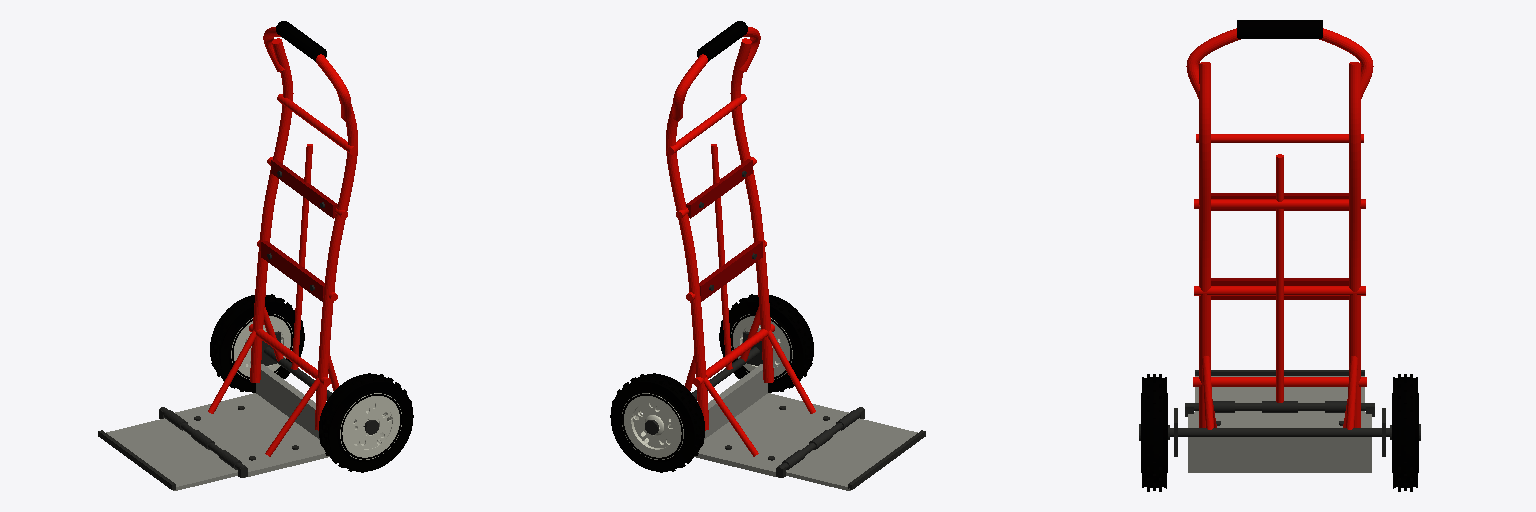
robot.urdf — rugged_hand_truck_dolly:
<robot name="rugged_hand_truck_dolly">
  <material name="red_powder_coat">
    <color rgba="0.86 0.07 0.03 1" />
    </material>
  <material name="welded_red_shadow">
    <color rgba="0.55 0.03 0.02 1" />
    </material>
  <material name="brushed_steel">
    <color rgba="0.55 0.55 0.52 1" />
    </material>
  <material name="dark_axle_steel">
    <color rgba="0.18 0.18 0.17 1" />
    </material>
  <material name="black_rubber">
    <color rgba="0.015 0.014 0.012 1" />
    </material>
  <material name="silver_rim">
    <color rgba="0.78 0.78 0.72 1" />
    </material>
  <link name="frame">
    <visual name="side_rail_0">
      <geometry>
        <mesh filename="assets/meshes/side_rail_0_mesh.obj" />
        </geometry>
      <material name="red_powder_coat">
        <color rgba="0.86 0.07 0.03 1" />
        </material>
      </visual>
    <visual name="side_rail_1">
      <geometry>
        <mesh filename="assets/meshes/side_rail_1_mesh.obj" />
        </geometry>
      <material name="red_powder_coat">
        <color rgba="0.86 0.07 0.03 1" />
        </material>
      </visual>
    <visual name="handle_loop">
      <geometry>
        <mesh filename="assets/meshes/handle_loop_mesh.obj" />
        </geometry>
      <material name="red_powder_coat">
        <color rgba="0.86 0.07 0.03 1" />
        </material>
      </visual>
    <visual name="rubber_grip">
      <origin xyz="0.055 0 1.455" rpy="1.5708 0 0" />
      <geometry>
        <cylinder radius="0.027" length="0.255" />
        </geometry>
      <material name="black_rubber">
        <color rgba="0.015 0.014 0.012 1" />
        </material>
      </visual>
    <visual name="lower_crossbar">
      <origin xyz="0.01 0 0.29" rpy="0 1.5708 1.5708" />
      <geometry>
        <cylinder radius="0.015" length="0.51" />
        </geometry>
      <material name="red_powder_coat">
        <color rgba="0.86 0.07 0.03 1" />
        </material>
      </visual>
    <visual name="middle_crossbar">
      <origin xyz="0.04 0 0.6" rpy="0 1.5708 1.5708" />
      <geometry>
        <cylinder radius="0.014" length="0.504" />
        </geometry>
      <material name="red_powder_coat">
        <color rgba="0.86 0.07 0.03 1" />
        </material>
      </visual>
    <visual name="load_crossbar">
      <origin xyz="0.08 0 0.9" rpy="0 1.5708 1.5708" />
      <geometry>
        <cylinder radius="0.014" length="0.504" />
        </geometry>
      <material name="red_powder_coat">
        <color rgba="0.86 0.07 0.03 1" />
        </material>
      </visual>
    <visual name="shoulder_crossbar">
      <origin xyz="0.116 0 1.13" rpy="0 1.5708 1.5708" />
      <geometry>
        <cylinder radius="0.014" length="0.496" />
        </geometry>
      <material name="red_powder_coat">
        <color rgba="0.86 0.07 0.03 1" />
        </material>
      </visual>
    <visual name="center_spine">
      <origin xyz="0.058 0 0.6475" rpy="0 0.0725995 0" />
      <geometry>
        <cylinder radius="0.011" length="0.827179" />
        </geometry>
      <material name="red_powder_coat">
        <color rgba="0.86 0.07 0.03 1" />
        </material>
      </visual>
    <visual name="toe_brace_0">
      <origin xyz="-0.089 -0.2075 0.1725" rpy="0 0.654972 -0.123136" />
      <geometry>
        <cylinder radius="0.011" length="0.334147" />
        </geometry>
      <material name="red_powder_coat">
        <color rgba="0.86 0.07 0.03 1" />
        </material>
      </visual>
    <visual name="toe_brace_1">
      <origin xyz="-0.089 0.2075 0.1725" rpy="0 0.654972 0.123136" />
      <geometry>
        <cylinder radius="0.011" length="0.334147" />
        </geometry>
      <material name="red_powder_coat">
        <color rgba="0.86 0.07 0.03 1" />
        </material>
      </visual>
    <visual name="axle_strut_0">
      <origin xyz="0.056 -0.2125 0.2825" rpy="0 0.313509 -2.9516" />
      <geometry>
        <cylinder radius="0.012" length="0.257554" />
        </geometry>
      <material name="red_powder_coat">
        <color rgba="0.86 0.07 0.03 1" />
        </material>
      </visual>
    <visual name="axle_strut_1">
      <origin xyz="0.056 0.2125 0.2825" rpy="0 0.313509 2.9516" />
      <geometry>
        <cylinder radius="0.012" length="0.257554" />
        </geometry>
      <material name="red_powder_coat">
        <color rgba="0.86 0.07 0.03 1" />
        </material>
      </visual>
    <visual name="toe_plate">
      <origin xyz="-0.14 0 0.025" rpy="0 0 0" />
      <geometry>
        <box size="0.38 0.54 0.018" />
        </geometry>
      <material name="brushed_steel">
        <color rgba="0.55 0.55 0.52 1" />
        </material>
      </visual>
    <visual name="heel_plate">
      <origin xyz="0.045 0 0.076" rpy="0 0 0" />
      <geometry>
        <box size="0.028 0.54 0.12" />
        </geometry>
      <material name="brushed_steel">
        <color rgba="0.55 0.55 0.52 1" />
        </material>
      </visual>
    <visual name="load_back_strap">
      <origin xyz="0.028 0 0.6" rpy="0 0 0" />
      <geometry>
        <box size="0.02 0.42 0.06" />
        </geometry>
      <material name="welded_red_shadow">
        <color rgba="0.55 0.03 0.02 1" />
        </material>
      </visual>
    <visual name="upper_back_strap">
      <origin xyz="0.067 0 0.9" rpy="0 0 0" />
      <geometry>
        <box size="0.018 0.42 0.05" />
        </geometry>
      <material name="welded_red_shadow">
        <color rgba="0.55 0.03 0.02 1" />
        </material>
      </visual>
    <visual name="axle">
      <origin xyz="0.095 0 0.165" rpy="0 1.5708 1.5708" />
      <geometry>
        <cylinder radius="0.014" length="0.78" />
        </geometry>
      <material name="dark_axle_steel">
        <color rgba="0.18 0.18 0.17 1" />
        </material>
      </visual>
    <visual name="dropout_plate_0">
      <origin xyz="0.095 -0.306 0.165" rpy="0 0 0" />
      <geometry>
        <box size="0.105 0.014 0.112" />
        </geometry>
      <material name="dark_axle_steel">
        <color rgba="0.18 0.18 0.17 1" />
        </material>
      </visual>
    <visual name="inner_washer_0">
      <origin xyz="0.095 -0.306 0.165" rpy="1.5708 0 0" />
      <geometry>
        <cylinder radius="0.044" length="0.01" />
        </geometry>
      <material name="dark_axle_steel">
        <color rgba="0.18 0.18 0.17 1" />
        </material>
      </visual>
    <visual name="dropout_plate_1">
      <origin xyz="0.095 0.306 0.165" rpy="0 0 0" />
      <geometry>
        <box size="0.105 0.014 0.112" />
        </geometry>
      <material name="dark_axle_steel">
        <color rgba="0.18 0.18 0.17 1" />
        </material>
      </visual>
    <visual name="inner_washer_1">
      <origin xyz="0.095 0.306 0.165" rpy="1.5708 0 0" />
      <geometry>
        <cylinder radius="0.044" length="0.01" />
        </geometry>
      <material name="dark_axle_steel">
        <color rgba="0.18 0.18 0.17 1" />
        </material>
      </visual>
    <visual name="toe_bolt_0_0">
      <origin xyz="-0.245 -0.185 0.037" rpy="0 0 0" />
      <geometry>
        <cylinder radius="0.012" length="0.006" />
        </geometry>
      <material name="dark_axle_steel">
        <color rgba="0.18 0.18 0.17 1" />
        </material>
      </visual>
    <visual name="toe_bolt_0_1">
      <origin xyz="-0.245 0.185 0.037" rpy="0 0 0" />
      <geometry>
        <cylinder radius="0.012" length="0.006" />
        </geometry>
      <material name="dark_axle_steel">
        <color rgba="0.18 0.18 0.17 1" />
        </material>
      </visual>
    <visual name="toe_bolt_1_0">
      <origin xyz="-0.075 -0.185 0.037" rpy="0 0 0" />
      <geometry>
        <cylinder radius="0.012" length="0.006" />
        </geometry>
      <material name="dark_axle_steel">
        <color rgba="0.18 0.18 0.17 1" />
        </material>
      </visual>
    <visual name="toe_bolt_1_1">
      <origin xyz="-0.075 0.185 0.037" rpy="0 0 0" />
      <geometry>
        <cylinder radius="0.012" length="0.006" />
        </geometry>
      <material name="dark_axle_steel">
        <color rgba="0.18 0.18 0.17 1" />
        </material>
      </visual>
    <visual name="strap_bolt_0_0">
      <origin xyz="0.014 -0.145 0.6" rpy="0 1.5708 0" />
      <geometry>
        <cylinder radius="0.01" length="0.008" />
        </geometry>
      <material name="dark_axle_steel">
        <color rgba="0.18 0.18 0.17 1" />
        </material>
      </visual>
    <visual name="strap_bolt_0_1">
      <origin xyz="0.014 0.145 0.6" rpy="0 1.5708 0" />
      <geometry>
        <cylinder radius="0.01" length="0.008" />
        </geometry>
      <material name="dark_axle_steel">
        <color rgba="0.18 0.18 0.17 1" />
        </material>
      </visual>
    <visual name="strap_bolt_1_0">
      <origin xyz="0.054 -0.145 0.9" rpy="0 1.5708 0" />
      <geometry>
        <cylinder radius="0.01" length="0.008" />
        </geometry>
      <material name="dark_axle_steel">
        <color rgba="0.18 0.18 0.17 1" />
        </material>
      </visual>
    <visual name="strap_bolt_1_1">
      <origin xyz="0.054 0.145 0.9" rpy="0 1.5708 0" />
      <geometry>
        <cylinder radius="0.01" length="0.008" />
        </geometry>
      <material name="dark_axle_steel">
        <color rgba="0.18 0.18 0.17 1" />
        </material>
      </visual>
    <visual name="toe_hinge_pin">
      <origin xyz="-0.33 0 0.05" rpy="1.5708 0 0" />
      <geometry>
        <cylinder radius="0.012" length="0.56" />
        </geometry>
      <material name="dark_axle_steel">
        <color rgba="0.18 0.18 0.17 1" />
        </material>
      </visual>
    <visual name="hinge_lug_0">
      <origin xyz="-0.33 -0.267 0.039" rpy="0 0 0" />
      <geometry>
        <box size="0.026 0.025 0.034" />
        </geometry>
      <material name="dark_axle_steel">
        <color rgba="0.18 0.18 0.17 1" />
        </material>
      </visual>
    <visual name="hinge_lug_1">
      <origin xyz="-0.33 0.267 0.039" rpy="0 0 0" />
      <geometry>
        <box size="0.026 0.025 0.034" />
        </geometry>
      <material name="dark_axle_steel">
        <color rgba="0.18 0.18 0.17 1" />
        </material>
      </visual>
    <collision name="side_rail_0">
      <geometry>
        <mesh filename="assets/meshes/side_rail_0_mesh.obj" />
        </geometry>
      </collision>
    <collision name="side_rail_1">
      <geometry>
        <mesh filename="assets/meshes/side_rail_1_mesh.obj" />
        </geometry>
      </collision>
    <collision name="handle_loop">
      <geometry>
        <mesh filename="assets/meshes/handle_loop_mesh.obj" />
        </geometry>
      </collision>
    <collision name="rubber_grip">
      <origin xyz="0.055 0 1.455" rpy="1.5708 0 0" />
      <geometry>
        <cylinder radius="0.027" length="0.255" />
        </geometry>
      </collision>
    <collision name="lower_crossbar">
      <origin xyz="0.01 0 0.29" rpy="0 1.5708 1.5708" />
      <geometry>
        <cylinder radius="0.015" length="0.51" />
        </geometry>
      </collision>
    <collision name="middle_crossbar">
      <origin xyz="0.04 0 0.6" rpy="0 1.5708 1.5708" />
      <geometry>
        <cylinder radius="0.014" length="0.504" />
        </geometry>
      </collision>
    <collision name="load_crossbar">
      <origin xyz="0.08 0 0.9" rpy="0 1.5708 1.5708" />
      <geometry>
        <cylinder radius="0.014" length="0.504" />
        </geometry>
      </collision>
    <collision name="shoulder_crossbar">
      <origin xyz="0.116 0 1.13" rpy="0 1.5708 1.5708" />
      <geometry>
        <cylinder radius="0.014" length="0.496" />
        </geometry>
      </collision>
    <collision name="center_spine">
      <origin xyz="0.058 0 0.6475" rpy="0 0.0725995 0" />
      <geometry>
        <cylinder radius="0.011" length="0.827179" />
        </geometry>
      </collision>
    <collision name="toe_brace_0">
      <origin xyz="-0.089 -0.2075 0.1725" rpy="0 0.654972 -0.123136" />
      <geometry>
        <cylinder radius="0.011" length="0.334147" />
        </geometry>
      </collision>
    <collision name="toe_brace_1">
      <origin xyz="-0.089 0.2075 0.1725" rpy="0 0.654972 0.123136" />
      <geometry>
        <cylinder radius="0.011" length="0.334147" />
        </geometry>
      </collision>
    <collision name="axle_strut_0">
      <origin xyz="0.056 -0.2125 0.2825" rpy="0 0.313509 -2.9516" />
      <geometry>
        <cylinder radius="0.012" length="0.257554" />
        </geometry>
      </collision>
    <collision name="axle_strut_1">
      <origin xyz="0.056 0.2125 0.2825" rpy="0 0.313509 2.9516" />
      <geometry>
        <cylinder radius="0.012" length="0.257554" />
        </geometry>
      </collision>
    <collision name="toe_plate">
      <origin xyz="-0.14 0 0.025" rpy="0 0 0" />
      <geometry>
        <box size="0.38 0.54 0.018" />
        </geometry>
      </collision>
    <collision name="heel_plate">
      <origin xyz="0.045 0 0.076" rpy="0 0 0" />
      <geometry>
        <box size="0.028 0.54 0.12" />
        </geometry>
      </collision>
    <collision name="load_back_strap">
      <origin xyz="0.028 0 0.6" rpy="0 0 0" />
      <geometry>
        <box size="0.02 0.42 0.06" />
        </geometry>
      </collision>
    <collision name="upper_back_strap">
      <origin xyz="0.067 0 0.9" rpy="0 0 0" />
      <geometry>
        <box size="0.018 0.42 0.05" />
        </geometry>
      </collision>
    <collision name="axle">
      <origin xyz="0.095 0 0.165" rpy="0 1.5708 1.5708" />
      <geometry>
        <cylinder radius="0.014" length="0.78" />
        </geometry>
      </collision>
    <collision name="dropout_plate_0">
      <origin xyz="0.095 -0.306 0.165" rpy="0 0 0" />
      <geometry>
        <box size="0.105 0.014 0.112" />
        </geometry>
      </collision>
    <collision name="inner_washer_0">
      <origin xyz="0.095 -0.306 0.165" rpy="1.5708 0 0" />
      <geometry>
        <cylinder radius="0.044" length="0.01" />
        </geometry>
      </collision>
    <collision name="dropout_plate_1">
      <origin xyz="0.095 0.306 0.165" rpy="0 0 0" />
      <geometry>
        <box size="0.105 0.014 0.112" />
        </geometry>
      </collision>
    <collision name="inner_washer_1">
      <origin xyz="0.095 0.306 0.165" rpy="1.5708 0 0" />
      <geometry>
        <cylinder radius="0.044" length="0.01" />
        </geometry>
      </collision>
    <collision name="toe_bolt_0_0">
      <origin xyz="-0.245 -0.185 0.037" rpy="0 0 0" />
      <geometry>
        <cylinder radius="0.012" length="0.006" />
        </geometry>
      </collision>
    <collision name="toe_bolt_0_1">
      <origin xyz="-0.245 0.185 0.037" rpy="0 0 0" />
      <geometry>
        <cylinder radius="0.012" length="0.006" />
        </geometry>
      </collision>
    <collision name="toe_bolt_1_0">
      <origin xyz="-0.075 -0.185 0.037" rpy="0 0 0" />
      <geometry>
        <cylinder radius="0.012" length="0.006" />
        </geometry>
      </collision>
    <collision name="toe_bolt_1_1">
      <origin xyz="-0.075 0.185 0.037" rpy="0 0 0" />
      <geometry>
        <cylinder radius="0.012" length="0.006" />
        </geometry>
      </collision>
    <collision name="strap_bolt_0_0">
      <origin xyz="0.014 -0.145 0.6" rpy="0 1.5708 0" />
      <geometry>
        <cylinder radius="0.01" length="0.008" />
        </geometry>
      </collision>
    <collision name="strap_bolt_0_1">
      <origin xyz="0.014 0.145 0.6" rpy="0 1.5708 0" />
      <geometry>
        <cylinder radius="0.01" length="0.008" />
        </geometry>
      </collision>
    <collision name="strap_bolt_1_0">
      <origin xyz="0.054 -0.145 0.9" rpy="0 1.5708 0" />
      <geometry>
        <cylinder radius="0.01" length="0.008" />
        </geometry>
      </collision>
    <collision name="strap_bolt_1_1">
      <origin xyz="0.054 0.145 0.9" rpy="0 1.5708 0" />
      <geometry>
        <cylinder radius="0.01" length="0.008" />
        </geometry>
      </collision>
    <collision name="toe_hinge_pin">
      <origin xyz="-0.33 0 0.05" rpy="1.5708 0 0" />
      <geometry>
        <cylinder radius="0.012" length="0.56" />
        </geometry>
      </collision>
    <collision name="hinge_lug_0">
      <origin xyz="-0.33 -0.267 0.039" rpy="0 0 0" />
      <geometry>
        <box size="0.026 0.025 0.034" />
        </geometry>
      </collision>
    <collision name="hinge_lug_1">
      <origin xyz="-0.33 0.267 0.039" rpy="0 0 0" />
      <geometry>
        <box size="0.026 0.025 0.034" />
        </geometry>
      </collision>
    </link>
  <link name="toe_extension">
    <visual name="extension_plate">
      <origin xyz="-0.13 0 -0.024" rpy="0 0 0" />
      <geometry>
        <box size="0.26 0.5 0.014" />
        </geometry>
      <material name="brushed_steel">
        <color rgba="0.55 0.55 0.52 1" />
        </material>
      </visual>
    <visual name="front_lip">
      <origin xyz="-0.26 0 -0.015" rpy="0 0 0" />
      <geometry>
        <box size="0.015 0.5 0.02" />
        </geometry>
      <material name="dark_axle_steel">
        <color rgba="0.18 0.18 0.17 1" />
        </material>
      </visual>
    <visual name="hinge_sleeve_0">
      <origin xyz="0 -0.185 0" rpy="1.5708 0 0" />
      <geometry>
        <cylinder radius="0.017" length="0.105" />
        </geometry>
      <material name="dark_axle_steel">
        <color rgba="0.18 0.18 0.17 1" />
        </material>
      </visual>
    <visual name="hinge_sleeve_1">
      <origin xyz="0 0 0" rpy="1.5708 0 0" />
      <geometry>
        <cylinder radius="0.017" length="0.105" />
        </geometry>
      <material name="dark_axle_steel">
        <color rgba="0.18 0.18 0.17 1" />
        </material>
      </visual>
    <visual name="hinge_sleeve_2">
      <origin xyz="0 0.185 0" rpy="1.5708 0 0" />
      <geometry>
        <cylinder radius="0.017" length="0.105" />
        </geometry>
      <material name="dark_axle_steel">
        <color rgba="0.18 0.18 0.17 1" />
        </material>
      </visual>
    <collision name="extension_plate">
      <origin xyz="-0.13 0 -0.024" rpy="0 0 0" />
      <geometry>
        <box size="0.26 0.5 0.014" />
        </geometry>
      </collision>
    <collision name="front_lip">
      <origin xyz="-0.26 0 -0.015" rpy="0 0 0" />
      <geometry>
        <box size="0.015 0.5 0.02" />
        </geometry>
      </collision>
    <collision name="hinge_sleeve_0">
      <origin xyz="0 -0.185 0" rpy="1.5708 0 0" />
      <geometry>
        <cylinder radius="0.017" length="0.105" />
        </geometry>
      </collision>
    <collision name="hinge_sleeve_1">
      <origin xyz="0 0 0" rpy="1.5708 0 0" />
      <geometry>
        <cylinder radius="0.017" length="0.105" />
        </geometry>
      </collision>
    <collision name="hinge_sleeve_2">
      <origin xyz="0 0.185 0" rpy="1.5708 0 0" />
      <geometry>
        <cylinder radius="0.017" length="0.105" />
        </geometry>
      </collision>
    </link>
  <link name="wheel_0">
    <visual name="tire">
      <origin xyz="0 0 0" rpy="0 0 1.5708" />
      <geometry>
        <mesh filename="assets/meshes/dolly_utility_tire.obj" />
        </geometry>
      <material name="black_rubber">
        <color rgba="0.015 0.014 0.012 1" />
        </material>
      </visual>
    <visual name="rim">
      <origin xyz="0 0 0" rpy="0 0 1.5708" />
      <geometry>
        <mesh filename="assets/meshes/dolly_wheel_rim.obj" />
        </geometry>
      <material name="silver_rim">
        <color rgba="0.78 0.78 0.72 1" />
        </material>
      </visual>
    <visual name="outer_hub_cap">
      <origin xyz="0 -0.04 0" rpy="1.5708 0 0" />
      <geometry>
        <cylinder radius="0.026" length="0.01" />
        </geometry>
      <material name="dark_axle_steel">
        <color rgba="0.18 0.18 0.17 1" />
        </material>
      </visual>
    <visual name="bearing_sleeve">
      <origin xyz="0 0 0" rpy="1.5708 0 0" />
      <geometry>
        <cylinder radius="0.021" length="0.09" />
        </geometry>
      <material name="dark_axle_steel">
        <color rgba="0.18 0.18 0.17 1" />
        </material>
      </visual>
    <collision name="tire">
      <origin xyz="0 0 0" rpy="0 0 1.5708" />
      <geometry>
        <mesh filename="assets/meshes/dolly_utility_tire.obj" />
        </geometry>
      </collision>
    <collision name="rim">
      <origin xyz="0 0 0" rpy="0 0 1.5708" />
      <geometry>
        <mesh filename="assets/meshes/dolly_wheel_rim.obj" />
        </geometry>
      </collision>
    <collision name="outer_hub_cap">
      <origin xyz="0 -0.04 0" rpy="1.5708 0 0" />
      <geometry>
        <cylinder radius="0.026" length="0.01" />
        </geometry>
      </collision>
    <collision name="bearing_sleeve">
      <origin xyz="0 0 0" rpy="1.5708 0 0" />
      <geometry>
        <cylinder radius="0.021" length="0.09" />
        </geometry>
      </collision>
    </link>
  <link name="wheel_1">
    <visual name="tire">
      <origin xyz="0 0 0" rpy="0 0 1.5708" />
      <geometry>
        <mesh filename="assets/meshes/dolly_utility_tire.obj" />
        </geometry>
      <material name="black_rubber">
        <color rgba="0.015 0.014 0.012 1" />
        </material>
      </visual>
    <visual name="rim">
      <origin xyz="0 0 0" rpy="0 0 1.5708" />
      <geometry>
        <mesh filename="assets/meshes/dolly_wheel_rim.obj" />
        </geometry>
      <material name="silver_rim">
        <color rgba="0.78 0.78 0.72 1" />
        </material>
      </visual>
    <visual name="outer_hub_cap">
      <origin xyz="0 0.04 0" rpy="1.5708 0 0" />
      <geometry>
        <cylinder radius="0.026" length="0.01" />
        </geometry>
      <material name="dark_axle_steel">
        <color rgba="0.18 0.18 0.17 1" />
        </material>
      </visual>
    <visual name="bearing_sleeve">
      <origin xyz="0 0 0" rpy="1.5708 0 0" />
      <geometry>
        <cylinder radius="0.021" length="0.09" />
        </geometry>
      <material name="dark_axle_steel">
        <color rgba="0.18 0.18 0.17 1" />
        </material>
      </visual>
    <collision name="tire">
      <origin xyz="0 0 0" rpy="0 0 1.5708" />
      <geometry>
        <mesh filename="assets/meshes/dolly_utility_tire.obj" />
        </geometry>
      </collision>
    <collision name="rim">
      <origin xyz="0 0 0" rpy="0 0 1.5708" />
      <geometry>
        <mesh filename="assets/meshes/dolly_wheel_rim.obj" />
        </geometry>
      </collision>
    <collision name="outer_hub_cap">
      <origin xyz="0 0.04 0" rpy="1.5708 0 0" />
      <geometry>
        <cylinder radius="0.026" length="0.01" />
        </geometry>
      </collision>
    <collision name="bearing_sleeve">
      <origin xyz="0 0 0" rpy="1.5708 0 0" />
      <geometry>
        <cylinder radius="0.021" length="0.09" />
        </geometry>
      </collision>
    </link>
  <joint name="frame_to_wheel_0" type="continuous">
    <origin xyz="0.095 -0.37 0.165" rpy="0 0 0" />
    <parent link="frame" />
    <child link="wheel_0" />
    <axis xyz="0 1 0" />
    <limit effort="35" velocity="8" />
    </joint>
  <joint name="frame_to_wheel_1" type="continuous">
    <origin xyz="0.095 0.37 0.165" rpy="0 0 0" />
    <parent link="frame" />
    <child link="wheel_1" />
    <axis xyz="0 1 0" />
    <limit effort="35" velocity="8" />
    </joint>
  <joint name="frame_to_toe_extension" type="revolute">
    <origin xyz="-0.33 0 0.05" rpy="0 0 0" />
    <parent link="frame" />
    <child link="toe_extension" />
    <axis xyz="0 1 0" />
    <limit effort="45" velocity="1.4" lower="0" upper="1.8326" />
    </joint>
  </robot>

--- Facts derived from the render (not from the file) ---
Views: 3 orthographic renders of the robot side by side, from view 1: azimuth 30°, elevation 25°; view 2: azimuth 150°, elevation 25°; view 3: azimuth 270°, elevation 25°.
Robot: rugged_hand_truck_dolly — 4 links, 3 joints (1 revolute, 2 continuous); root link frame; default pose: every joint at zero.
Links seen in each view (by area): view 1: frame, wheel_0, toe_extension, wheel_1; view 2: frame, wheel_1, toe_extension, wheel_0; view 3: frame, toe_extension, wheel_0, wheel_1.
Boxes of the visible links, bbox=[...] form: frame: bbox=[159, 21, 357, 477]; wheel_0: bbox=[319, 373, 413, 472]; toe_extension: bbox=[98, 410, 241, 490]; wheel_1: bbox=[210, 294, 304, 392]; frame: bbox=[666, 21, 864, 477]; wheel_1: bbox=[610, 373, 704, 472]; toe_extension: bbox=[782, 410, 925, 490]; wheel_0: bbox=[719, 294, 813, 392]; frame: bbox=[1170, 20, 1389, 472]; toe_extension: bbox=[1195, 370, 1364, 412]; wheel_0: bbox=[1139, 374, 1169, 491]; wheel_1: bbox=[1390, 374, 1420, 491].
Bounding box of the posed robot: 0.8659 × 0.83 × 1.49 m (x, y, z).
Meshes: 5 distinct files referenced, 7 mesh visuals loaded (5 OBJ).
